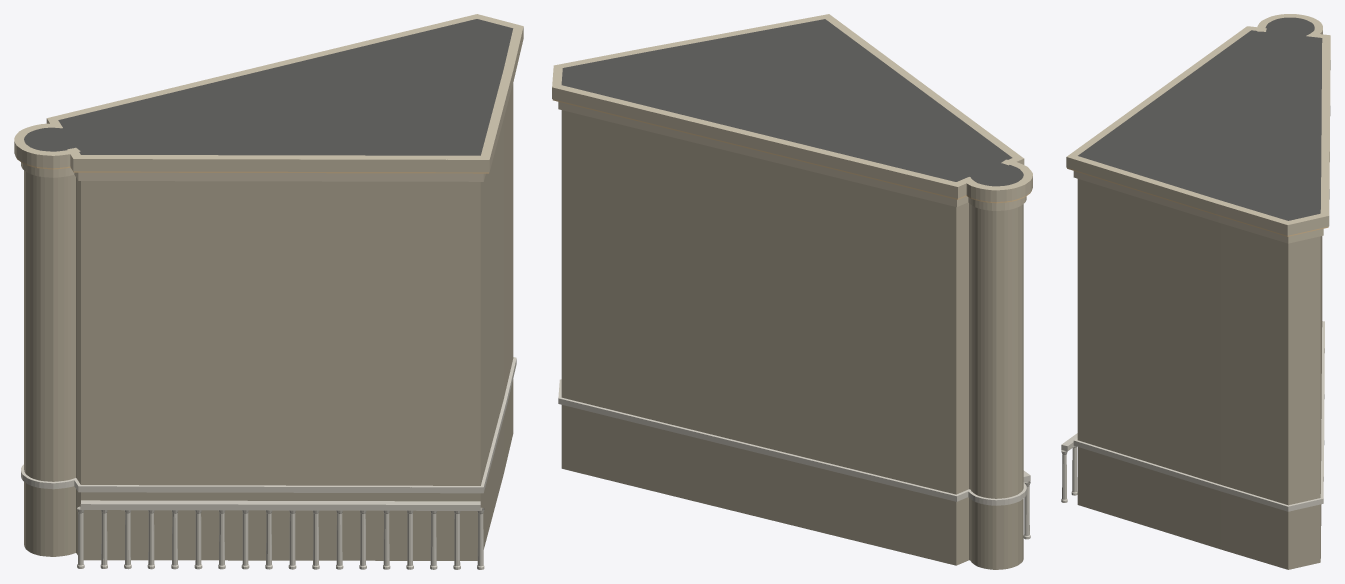
Rendered from hurt-building.glb.
3 renders of one model, left to right at view 1: azimuth 30°, elevation 25°; view 2: azimuth 150°, elevation 25°; view 3: azimuth 270°, elevation 25°, orthographic. The views are drawn at different scales.
Parts seen in each view (by area): view 1: lod0_bld_wall, lod0_bld_roof, lod0_lm_flood, lod1_lm_flood, lod0_lm_glow; view 2: lod0_bld_wall, lod0_bld_roof, lod1_lm_flood, lod0_lm_flood, lod0_lm_glow; view 3: lod0_bld_wall, lod0_bld_roof, lod0_lm_flood, lod1_lm_flood, lod0_lm_glow.
Part boxes in pixels (x1=…): lod0_bld_wall: x1=24, y1=83, x2=513, y2=560; lod0_bld_roof: x1=24, y1=19, x2=513, y2=155; lod0_lm_flood: x1=14, y1=14, x2=523, y2=569; lod1_lm_flood: x1=14, y1=41, x2=520, y2=493; lod0_lm_glow: x1=15, y1=156, x2=489, y2=173; lod0_bld_wall: x1=561, y1=110, x2=1023, y2=569; lod0_bld_roof: x1=561, y1=19, x2=1023, y2=186; lod1_lm_flood: x1=552, y1=87, x2=1030, y2=505; lod0_lm_flood: x1=552, y1=14, x2=1032, y2=539; lod0_lm_glow: x1=552, y1=99, x2=1031, y2=203; lod0_bld_wall: x1=1077, y1=179, x2=1322, y2=569; lod0_bld_roof: x1=1078, y1=17, x2=1322, y2=220; lod0_lm_flood: x1=1061, y1=14, x2=1330, y2=511; lod1_lm_flood: x1=1066, y1=33, x2=1330, y2=511; lod0_lm_glow: x1=1067, y1=168, x2=1328, y2=236.
Bounding box in the file's own units: 106 × 82 × 57.36.
